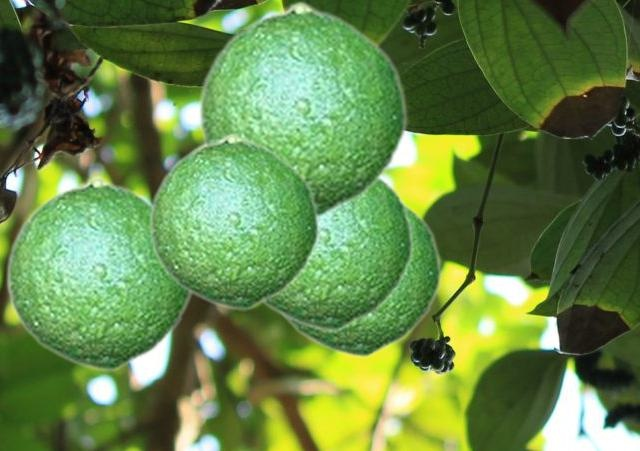dalandan: (196, 0, 407, 218), (4, 175, 192, 371), (147, 132, 319, 310), (276, 196, 441, 357), (263, 175, 413, 331)
